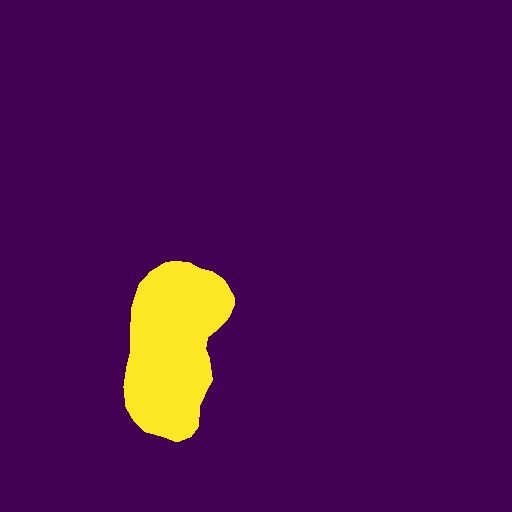Gliomia_tumour: (123, 261, 235, 442)
